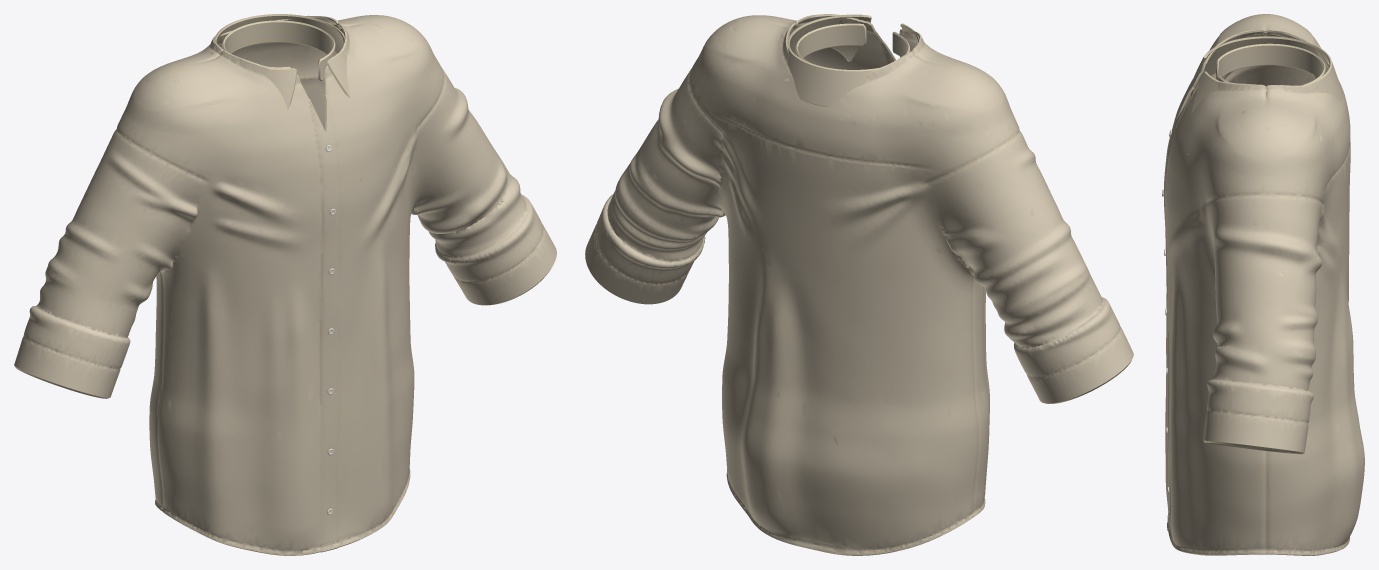
File: 04_camisa_lino_pbr.glb
The picture shows the model from 3 angles, left to right: view 1: azimuth 30°, elevation 25°; view 2: azimuth 150°, elevation 25°; view 3: azimuth 270°, elevation 25°; orthographic projection. The views are drawn at different scales.
Visible parts, largest first — view 1: Camiseta PBR; view 2: Camiseta PBR; view 3: Camiseta PBR.
Boxes of the visible parts, left/top/right/bottom form: Camiseta PBR: left=14, top=14, right=556, bottom=555; Camiseta PBR: left=585, top=14, right=1133, bottom=555; Camiseta PBR: left=1163, top=14, right=1364, bottom=555.
Bounding box in the file's own units: 0.8995 × 0.7798 × 0.3045.
2 materials, 1 textured.
